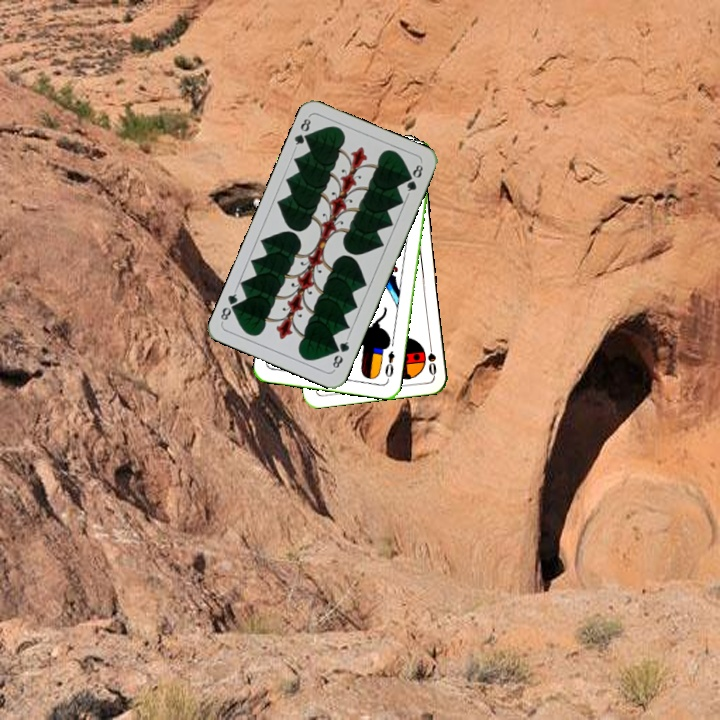EO: (381, 347, 397, 383)
G8: (328, 334, 352, 373), (290, 114, 314, 152)
SO: (423, 337, 439, 378)
